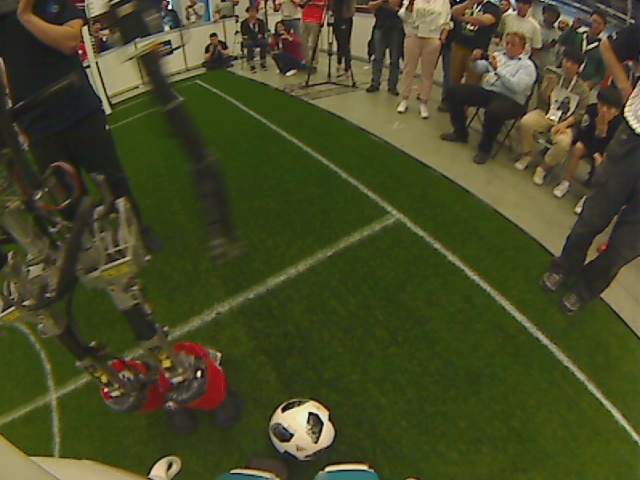ball: (267, 395, 333, 460)
